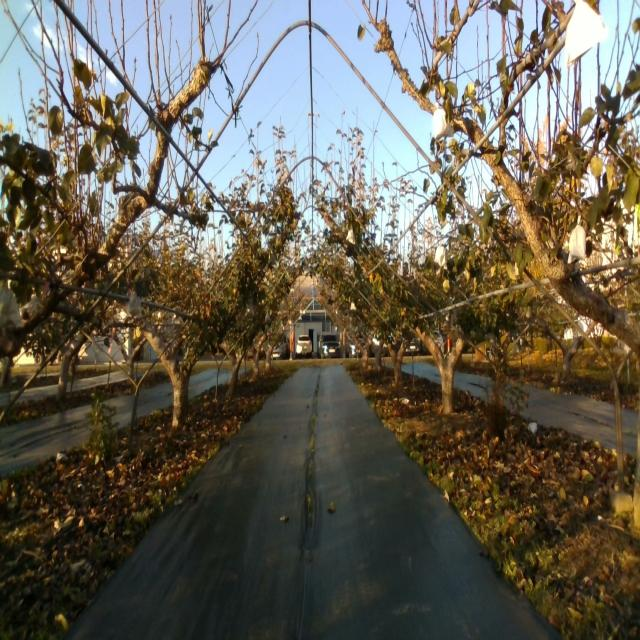pearbags: (564, 0, 607, 66), (0, 285, 24, 331), (568, 216, 587, 265), (433, 102, 453, 141), (128, 292, 142, 318), (434, 245, 448, 267)
